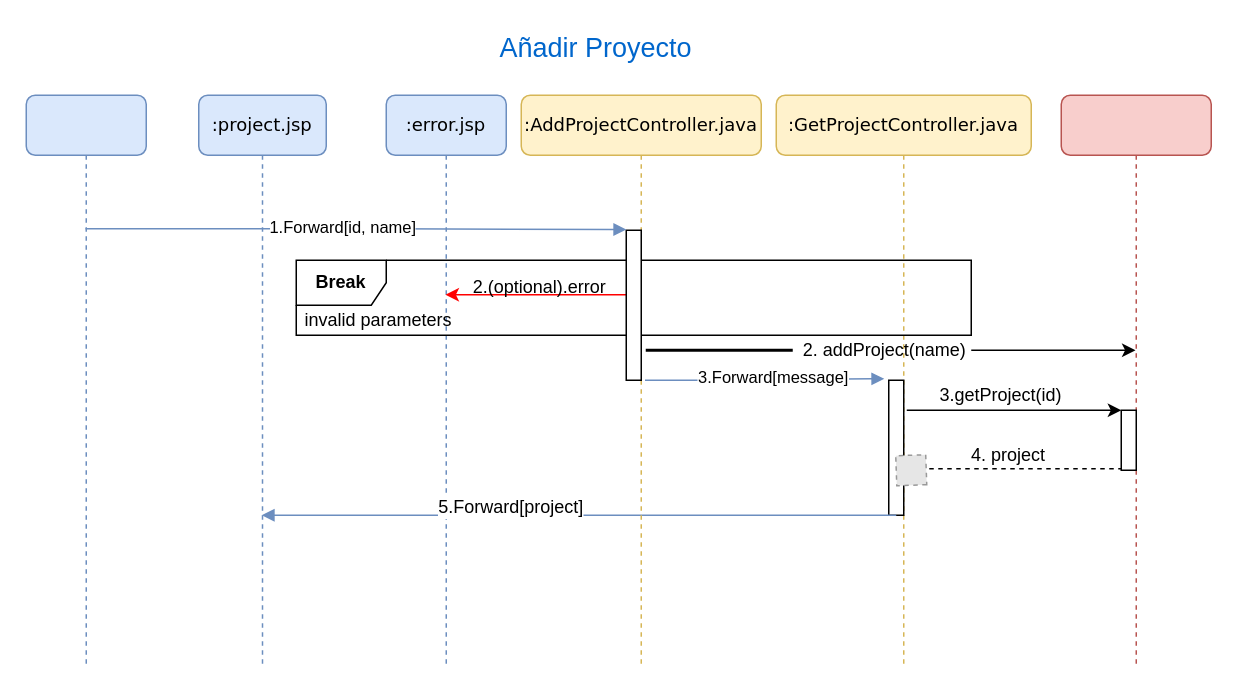
Some shapes in this 1238 by 692 pixel diagram are drawn without their labels. Grey dashed boxes stand in for pictures. The box of each missing label's shape, as (x1, y1, x2, y2) in pixels:
:index.jsp: (25, 94, 146, 665)
TodoIst: (1060, 94, 1211, 665)
